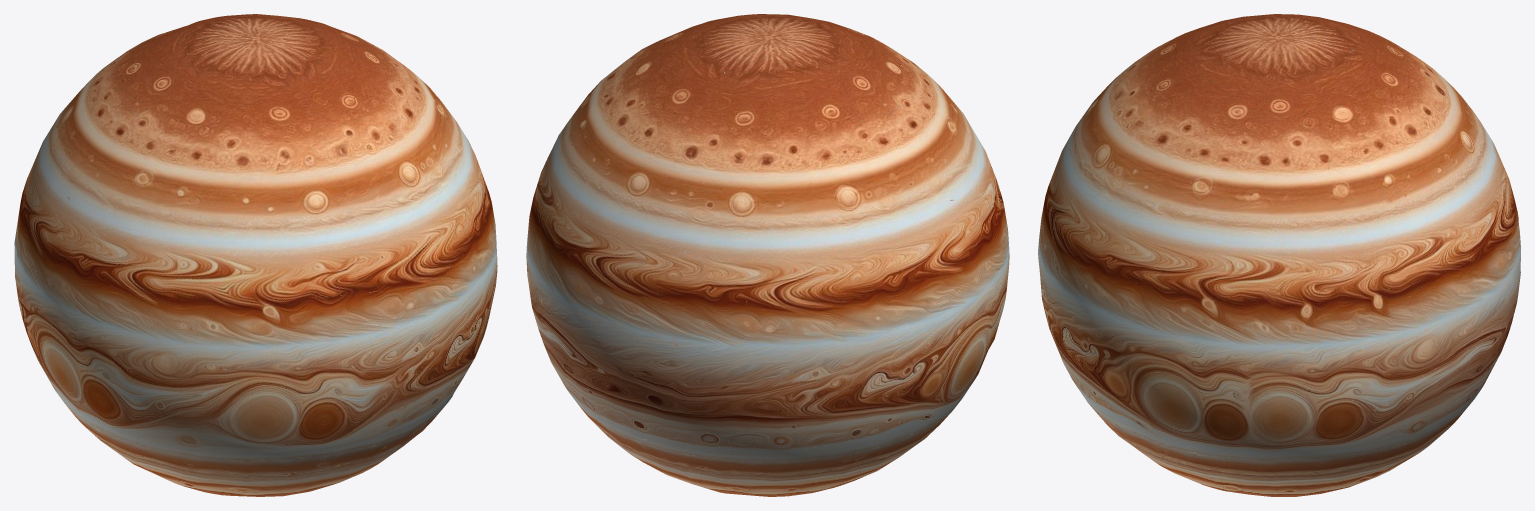
File: jupiter.glb
3 views of the same model, side by side, from view 1: azimuth 30°, elevation 25°; view 2: azimuth 150°, elevation 25°; view 3: azimuth 270°, elevation 25° (orthographic).
Bounding box in the file's own units: 1.89 × 1.89 × 1.89.
1 material, 1 textured.
